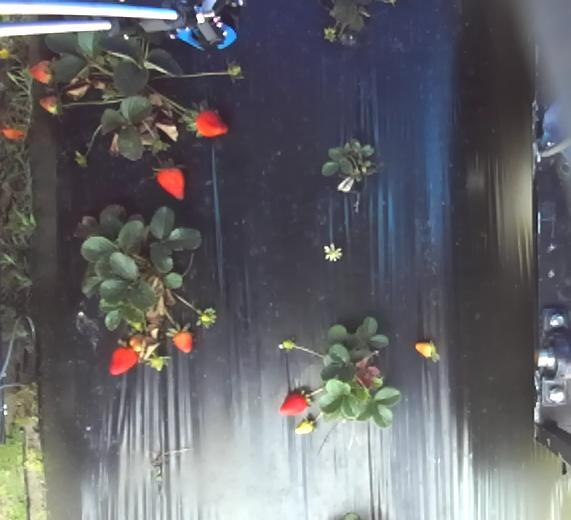mature: (151, 164, 186, 200), (192, 108, 228, 139), (107, 345, 138, 375), (30, 58, 54, 85), (280, 394, 309, 415), (171, 330, 193, 353)
